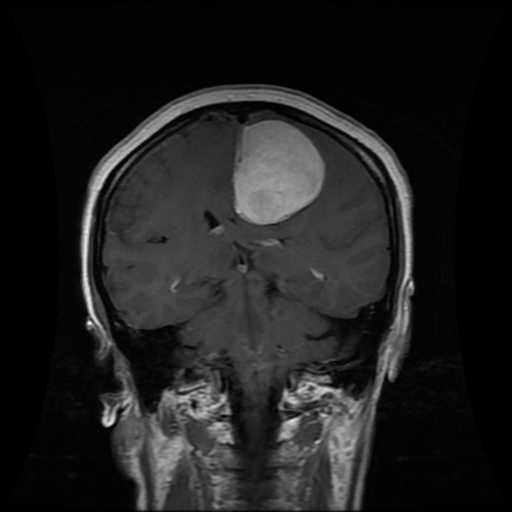meningioma: (233, 118, 325, 225)
